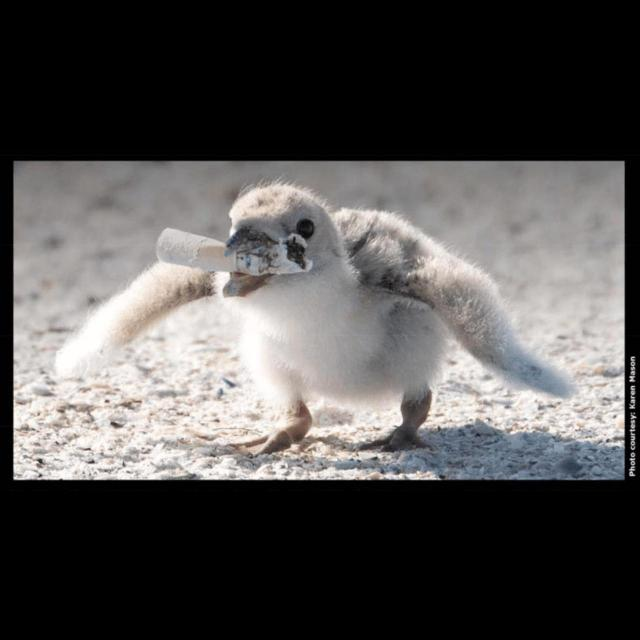cigarette: (155, 227, 315, 275)
